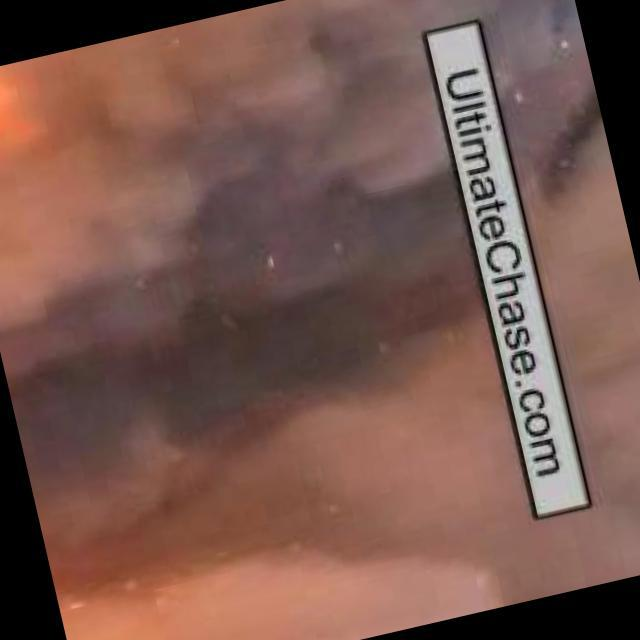Fire: (1, 39, 141, 189)
